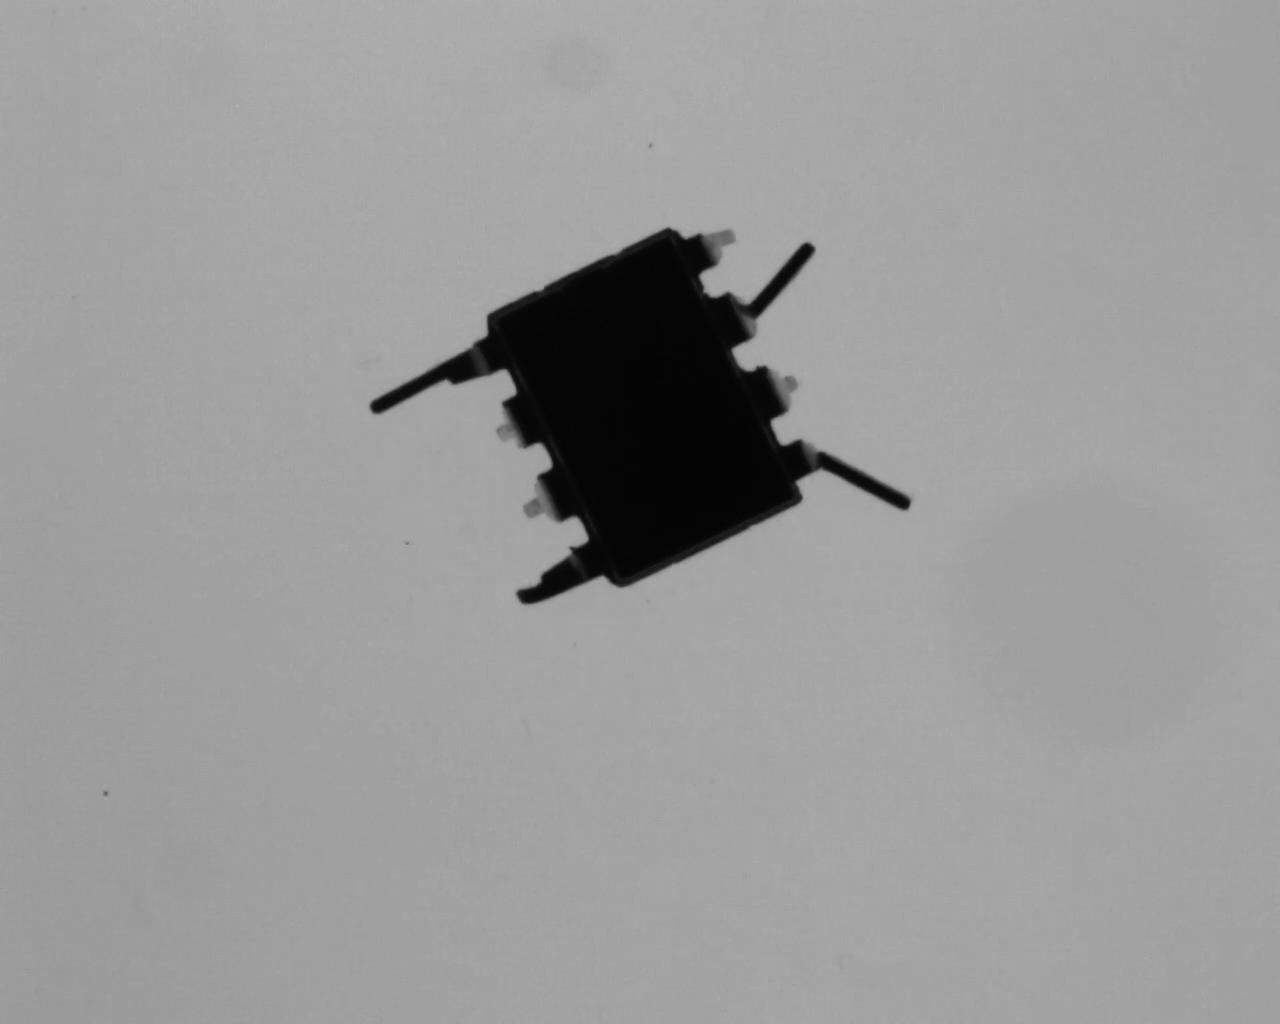Leg: (702, 237, 819, 353), (368, 327, 504, 417), (775, 437, 914, 514), (514, 538, 622, 611), (512, 460, 595, 527), (487, 386, 555, 452), (739, 366, 797, 417), (686, 226, 738, 281)
